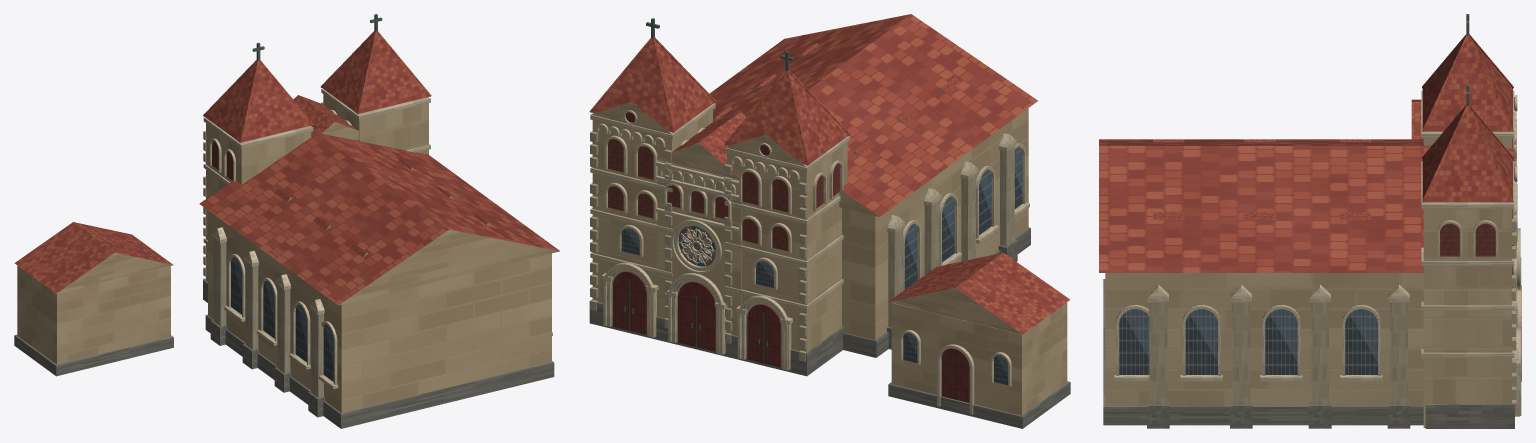
The model's file is SM_QD_CatholicChurch_Historic.fbx.
3 views of the same model, side by side, from view 1: azimuth 30°, elevation 25°; view 2: azimuth 150°, elevation 25°; view 3: azimuth 270°, elevation 25° (orthographic). The views are drawn at different scales.
Parts seen in each view (by area): view 1: SM_QD_CatholicChurch_Historic; view 2: SM_QD_CatholicChurch_Historic; view 3: SM_QD_CatholicChurch_Historic.
Boxes of the visible parts, x1=… form: SM_QD_CatholicChurch_Historic: x1=14, y1=14, x2=559, y2=428; SM_QD_CatholicChurch_Historic: x1=589, y1=14, x2=1070, y2=428; SM_QD_CatholicChurch_Historic: x1=1099, y1=14, x2=1521, y2=428.
Bounding box in the file's own units: 13.01 × 10.19 × 8.56.
